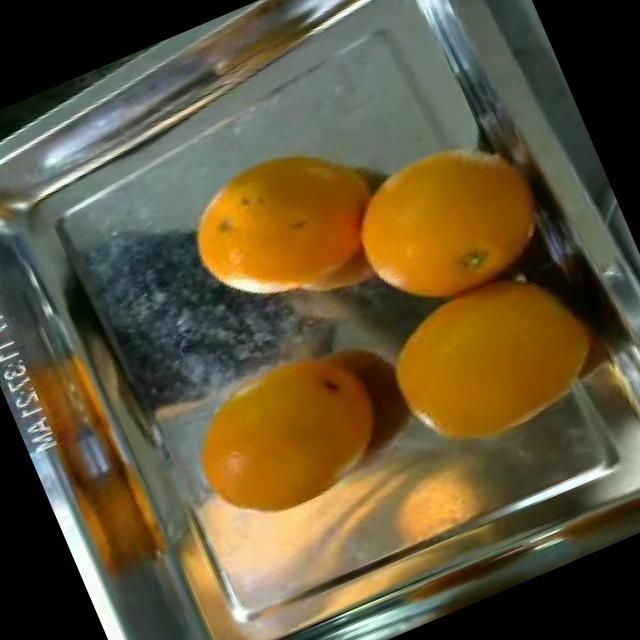Fruit: (155, 112, 409, 343)
